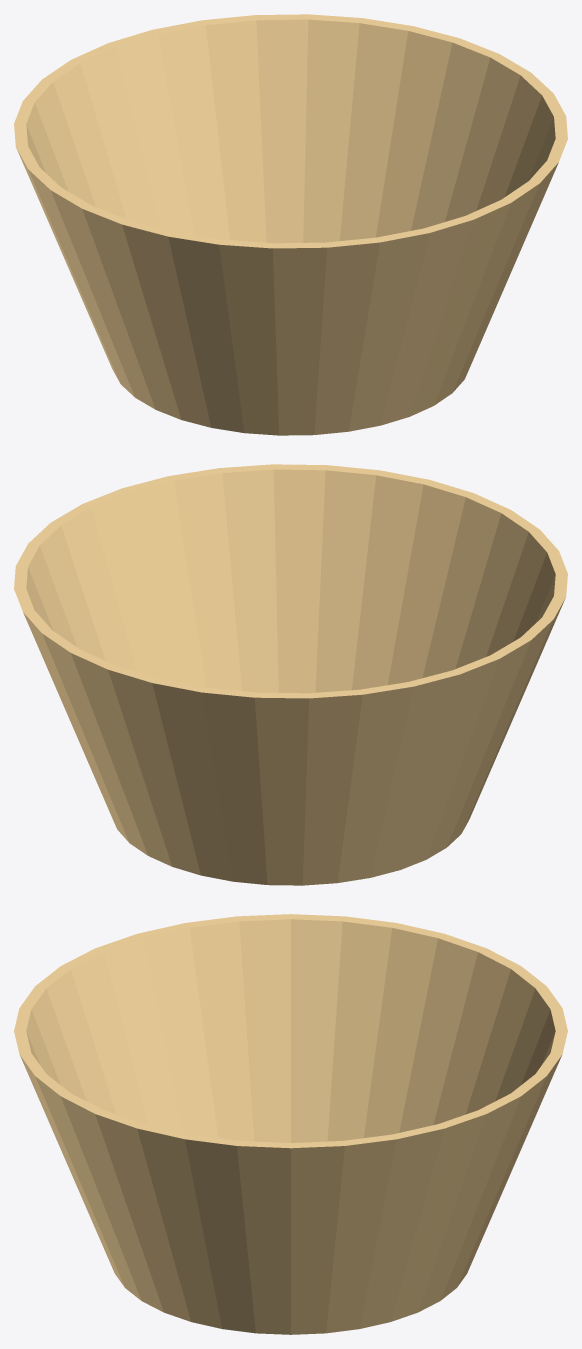
Rendered from plato_1.obj.
3 renders of one model, top to bottom at view 1: azimuth 30°, elevation 25°; view 2: azimuth 150°, elevation 25°; view 3: azimuth 270°, elevation 25°, orthographic.
Parts seen in each view (by area): view 1: Cilindro.007_Cilindro.004; view 2: Cilindro.007_Cilindro.004; view 3: Cilindro.007_Cilindro.004.
Part boxes in pixels (left/top/right/bottom): Cilindro.007_Cilindro.004: left=14, top=14, right=567, bottom=435; Cilindro.007_Cilindro.004: left=14, top=464, right=567, bottom=885; Cilindro.007_Cilindro.004: left=14, top=914, right=567, bottom=1334.
Size of the model in its own units: 0.22 by 0.0998 by 0.22.
